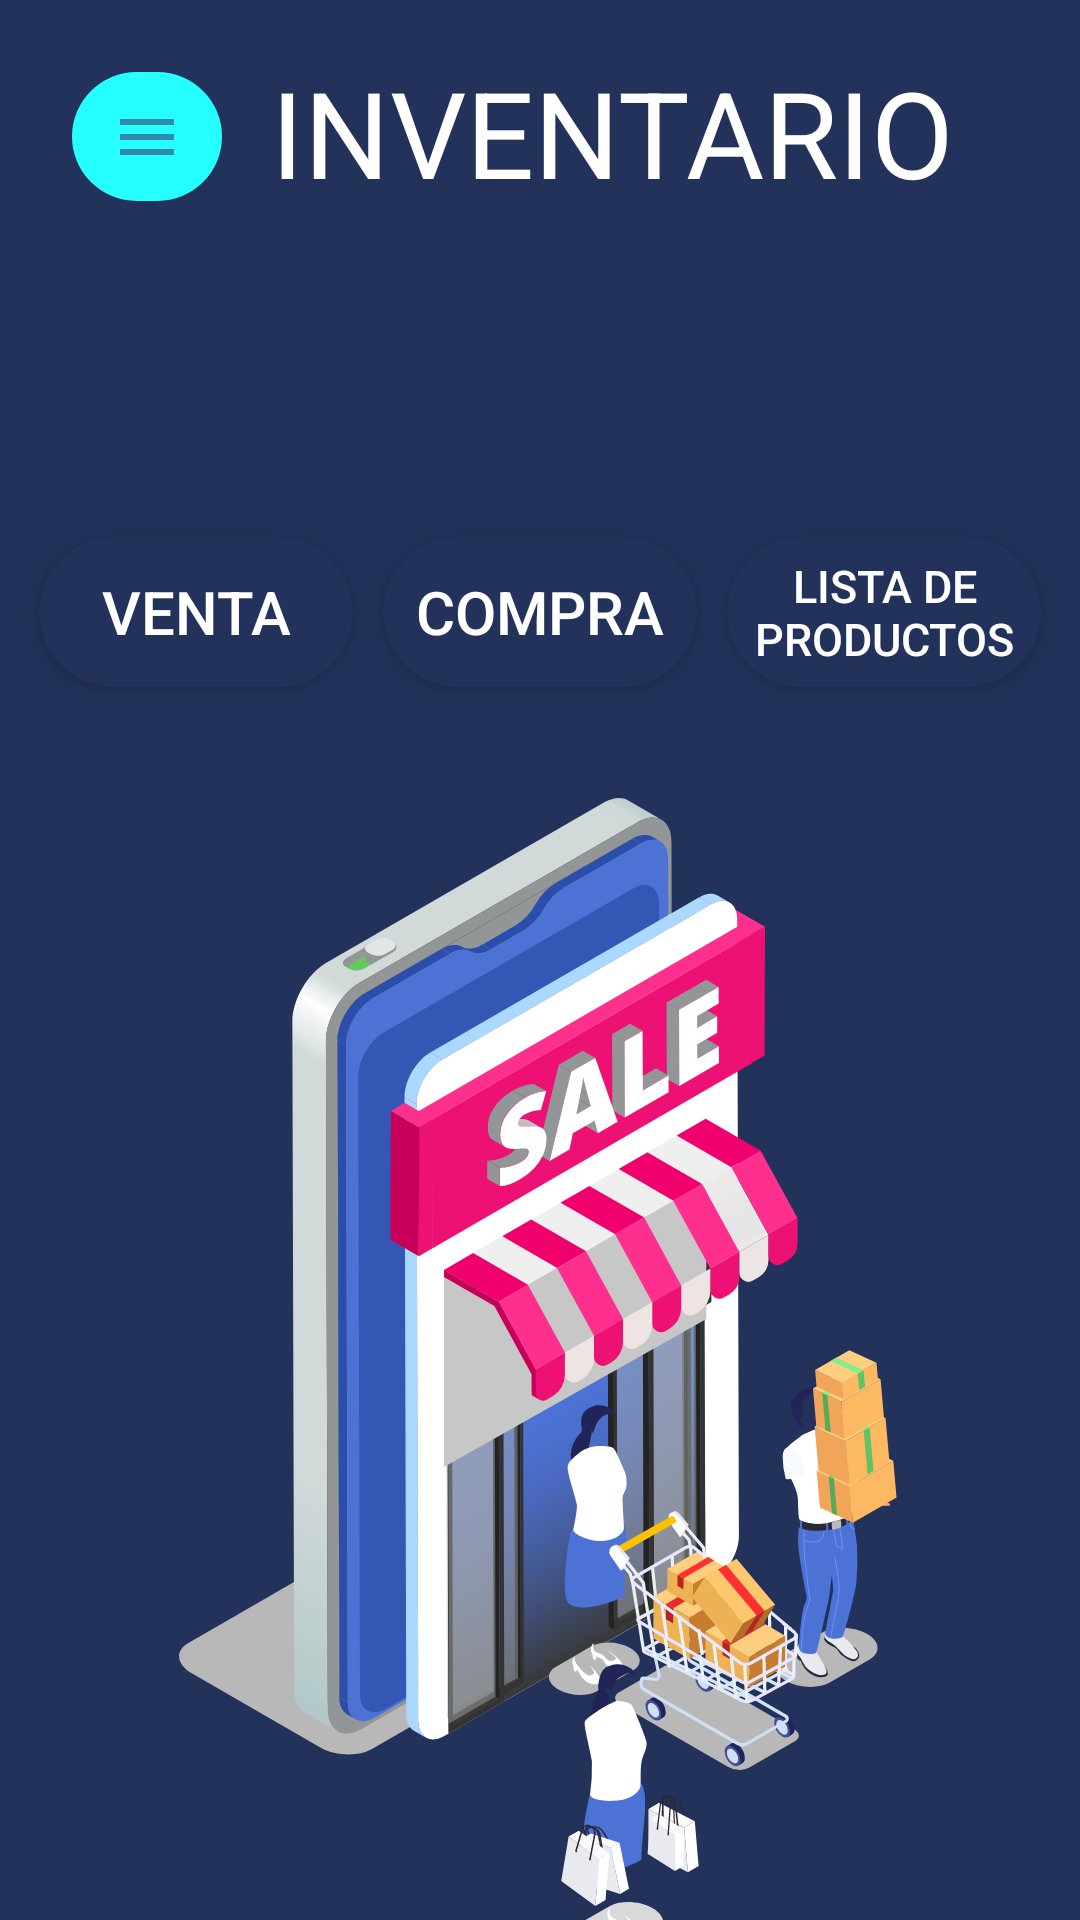

Screen size 1080px×1920px. Icon name, then its box in pixels as (x1, y1, x2, y2):
menu: (72, 72, 222, 201)
